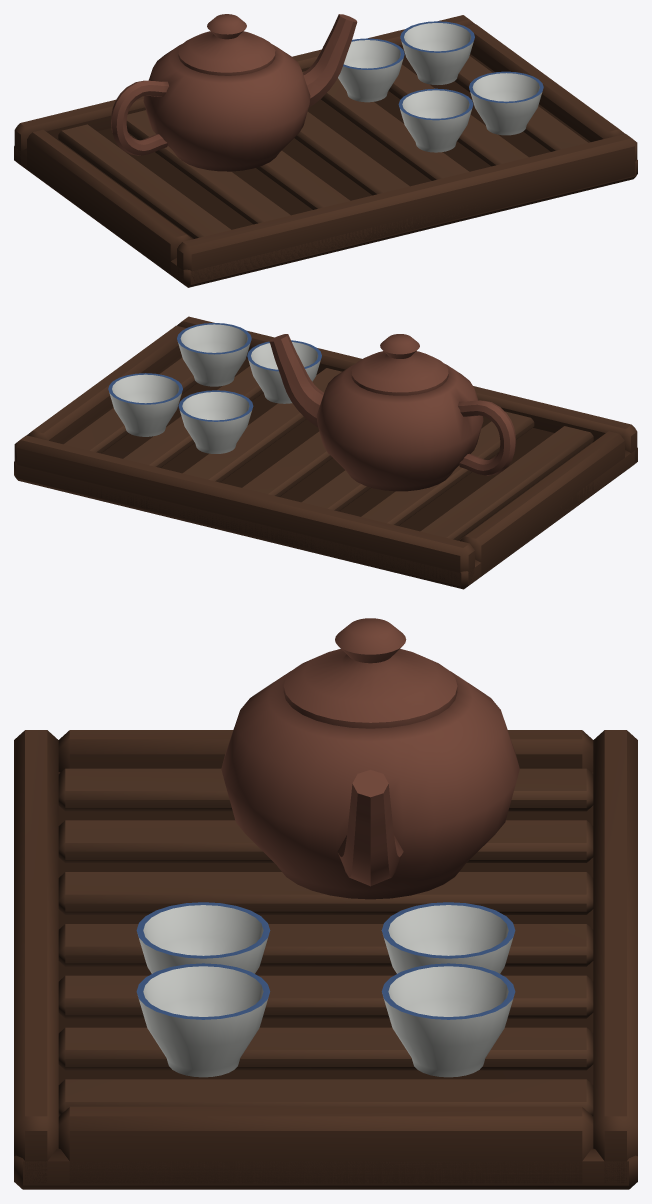
The model's file is teaset.glb.
3 views of the same model, one above another, from view 1: azimuth 30°, elevation 25°; view 2: azimuth 150°, elevation 25°; view 3: azimuth 270°, elevation 25° (orthographic). The views are drawn at different scales.
Visible parts, largest first — view 1: teaset; view 2: teaset; view 3: teaset.
Boxes of the visible parts, box(x1,y1,x2,y2) form: teaset: box(14, 14, 637, 287); teaset: box(14, 316, 637, 589); teaset: box(14, 618, 637, 1189).
Bounding box in the file's own units: 0.42 × 0.146 × 0.28.
